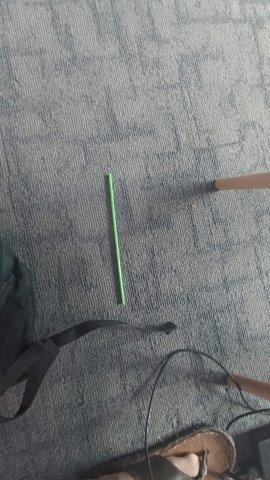sedotan: (107, 175, 125, 304)
